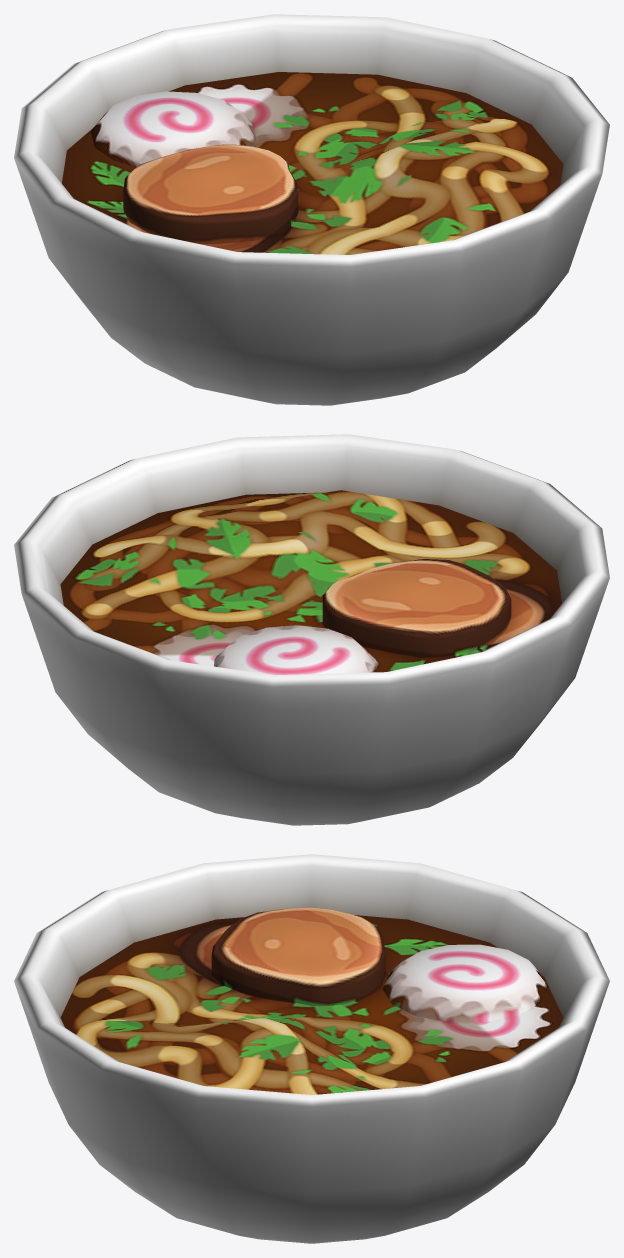
Rendered from 011-Soup_01.FBX.
3 views of the same model, one above another, from view 1: azimuth 30°, elevation 25°; view 2: azimuth 150°, elevation 25°; view 3: azimuth 270°, elevation 25° (orthographic).
Visible parts, largest first — view 1: 011-Soup_01; view 2: 011-Soup_01; view 3: 011-Soup_01.
Part boxes in pixels (<box>): 011-Soup_01: <box>14,14,609,405</box>; 011-Soup_01: <box>14,434,609,825</box>; 011-Soup_01: <box>14,854,609,1243</box>.
Size of the model in its own units: 28.29 by 11.02 by 28.29.
